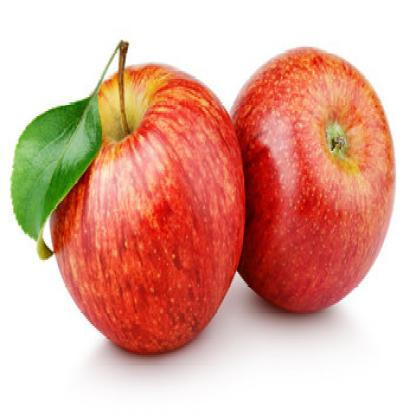apple: (44, 59, 250, 362), (218, 37, 396, 328)
